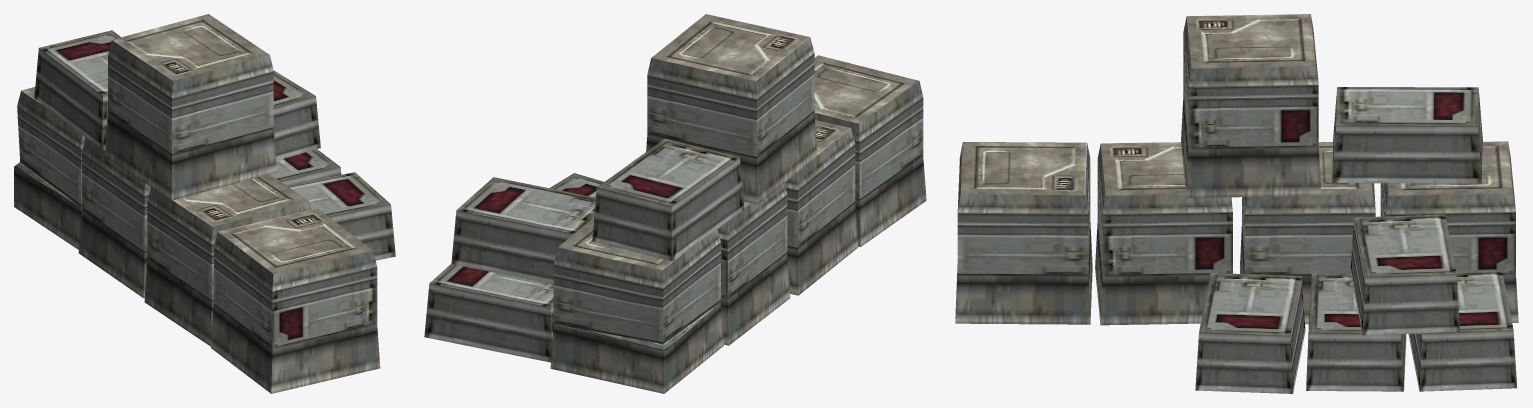
The model's file is eaw_crates6.glb.
3 views of the same model, side by side, from view 1: azimuth 30°, elevation 25°; view 2: azimuth 150°, elevation 25°; view 3: azimuth 270°, elevation 25° (orthographic). The views are drawn at different scales.
Visible parts, largest first — view 1: clusterE_01_0; view 2: clusterE_01_0; view 3: clusterE_01_0.
Part boxes in pixels (x1,y1,x2,y2): clusterE_01_0: [14, 14, 395, 393]; clusterE_01_0: [424, 14, 926, 393]; clusterE_01_0: [955, 14, 1518, 393].
Size of the model in its own units: 2.12 by 1.96 by 3.94.
1 material, 1 textured.
